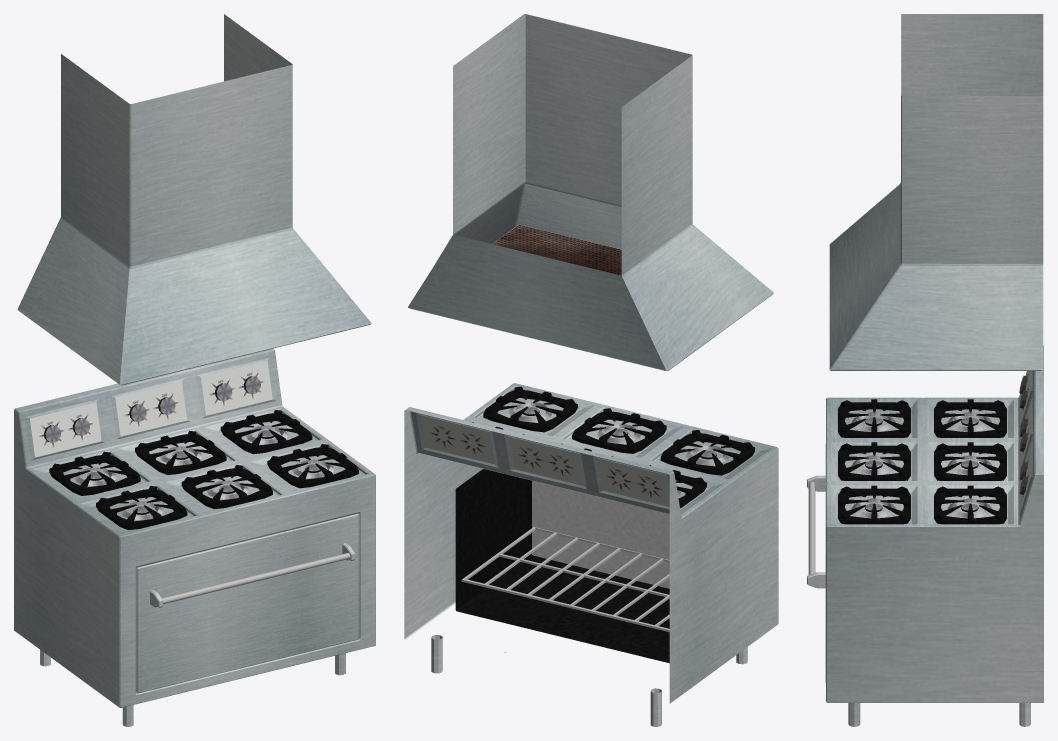
Rendered from Oven.gltf.
The picture shows the model from 3 angles, left to right: view 1: azimuth 30°, elevation 25°; view 2: azimuth 150°, elevation 25°; view 3: azimuth 270°, elevation 25°; orthographic projection. The views are drawn at different scales.
Parts seen in each view (by area): view 1: Oven-vent, Oven, Oven_door; view 2: Oven-vent, Oven, Oven_door, Oven_rack; view 3: Oven, Oven-vent, Oven_door.
Boxes of the visible parts, <box> form: Oven-vent: <box>17,14,371,385</box>; Oven: <box>14,348,375,726</box>; Oven_door: <box>136,513,358,693</box>; Oven-vent: <box>408,14,773,370</box>; Oven: <box>404,383,778,726</box>; Oven_door: <box>532,480,669,588</box>; Oven_rack: <box>461,527,669,632</box>; Oven: <box>826,345,1043,726</box>; Oven-vent: <box>829,14,1043,370</box>; Oven_door: <box>807,444,825,682</box>.
Bounding box in the file's own units: 1.57 × 3.5 × 1.22.
Materials: 4 (3 with a texture image).
